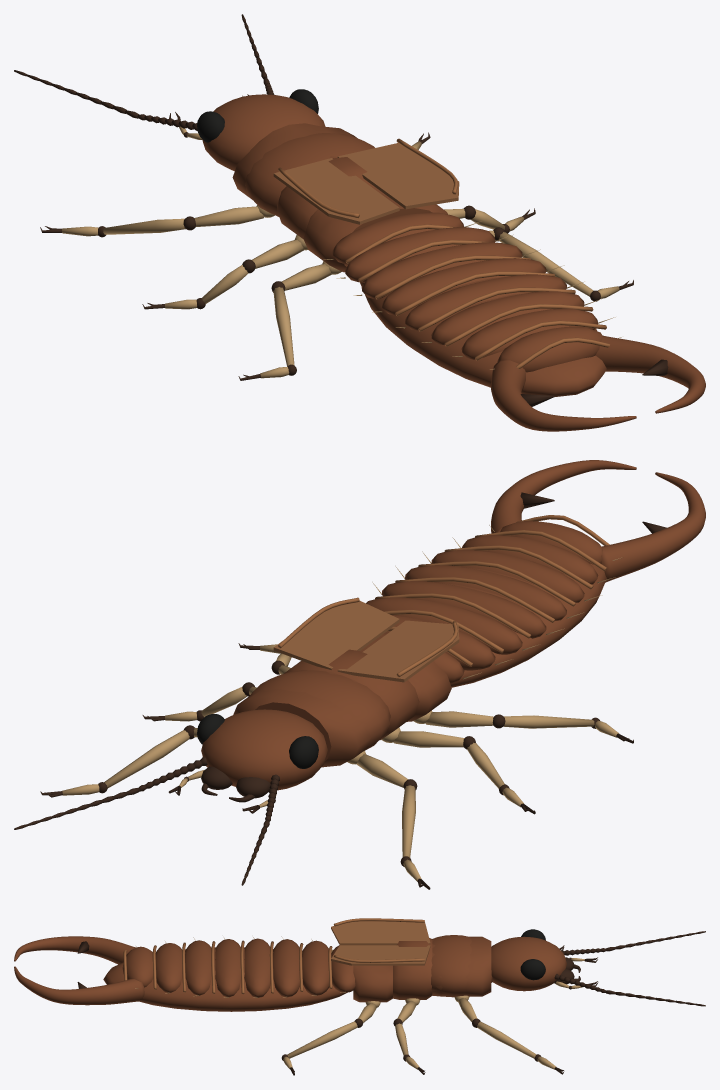
Rendered from Earwig.fbx.
3 renders of one model, top to bottom at view 1: azimuth 30°, elevation 25°; view 2: azimuth 150°, elevation 25°; view 3: azimuth 270°, elevation 25°, orthographic. The views are drawn at different scales.
Visible parts, largest first — view 1: Material group Earwig_MahoganyCuticle, Material group Earwig_ShortTegmina, Material group Earwig_TawnyLegs, Material group Earwig_TergaEdges, Material group Earwig_DarkSutures, Material group Earwig_CompoundEyes; view 2: Material group Earwig_MahoganyCuticle, Material group Earwig_TawnyLegs, Material group Earwig_ShortTegmina, Material group Earwig_TergaEdges, Material group Earwig_DarkSutures, Material group Earwig_CompoundEyes; view 3: Material group Earwig_MahoganyCuticle, Material group Earwig_ShortTegmina, Material group Earwig_TawnyLegs, Material group Earwig_TergaEdges, Material group Earwig_DarkSutures, Material group Earwig_CompoundEyes.
Boxes of the visible parts, x1,y1,x2,y2 form: Material group Earwig_MahoganyCuticle: [202, 94, 705, 431]; Material group Earwig_ShortTegmina: [273, 143, 459, 224]; Material group Earwig_TawnyLegs: [62, 126, 621, 378]; Material group Earwig_TergaEdges: [278, 138, 609, 368]; Material group Earwig_DarkSutures: [14, 14, 668, 406]; Material group Earwig_CompoundEyes: [197, 89, 318, 142]; Material group Earwig_MahoganyCuticle: [201, 460, 705, 790]; Material group Earwig_TawnyLegs: [62, 525, 622, 881]; Material group Earwig_ShortTegmina: [273, 601, 459, 682]; Material group Earwig_TergaEdges: [278, 515, 609, 676]; Material group Earwig_DarkSutures: [14, 492, 666, 889]; Material group Earwig_CompoundEyes: [197, 714, 318, 768]; Material group Earwig_MahoganyCuticle: [14, 935, 566, 1011]; Material group Earwig_ShortTegmina: [331, 921, 430, 965]; Material group Earwig_TawnyLegs: [135, 936, 584, 1069]; Material group Earwig_TergaEdges: [123, 918, 424, 994]; Material group Earwig_DarkSutures: [77, 931, 705, 1075]; Material group Earwig_CompoundEyes: [520, 929, 545, 980].
Bounding box in the file's own units: 0.4405 × 0.1161 × 1.
